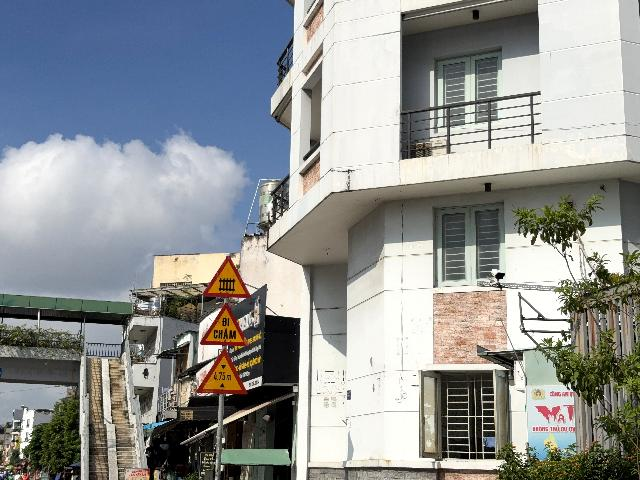chieu-cao-tinh-khong-thuc-te: (196, 348, 248, 394)
di-cham: (200, 302, 249, 346)
noi-giao-nhau-voi-duong-sat-co-rao-chan: (202, 255, 251, 298)
